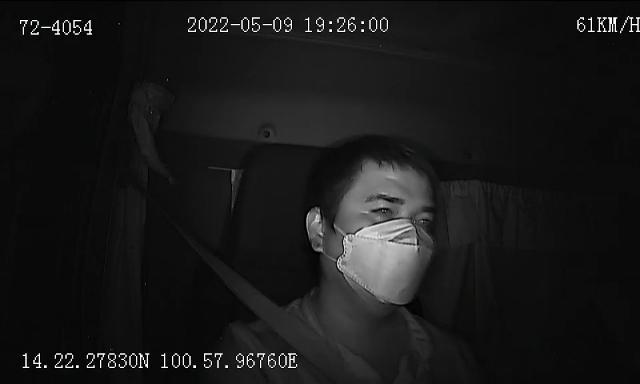SafeDriving: (362, 198, 400, 218)
Seatbelt: (191, 240, 349, 384)
